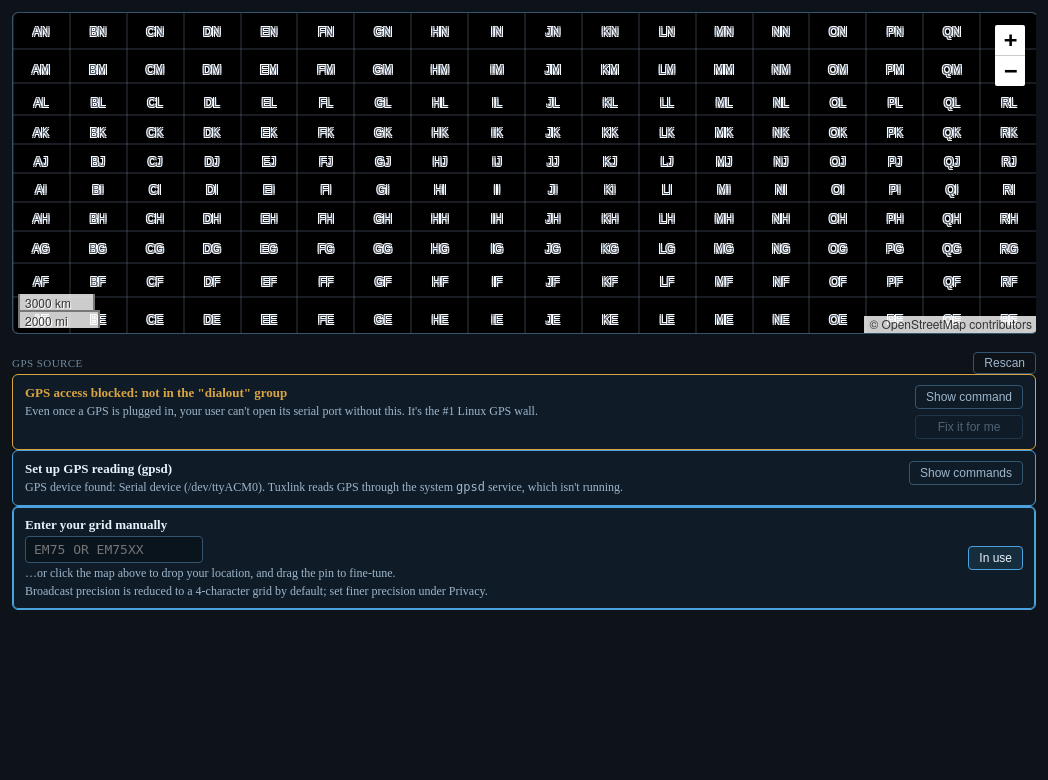
Scenario: GpsSourcePicker › shows a dialout triage card with a copy-pasteable fix command (the core Linux GPS wall)
Expected: the element with test id "gps-triage-dialout" is shown, 12,374 -> 1036,450
Click the button with test id "gps-show-command-dialout". click: (969, 397)
box: 915,385 -> 1023,409
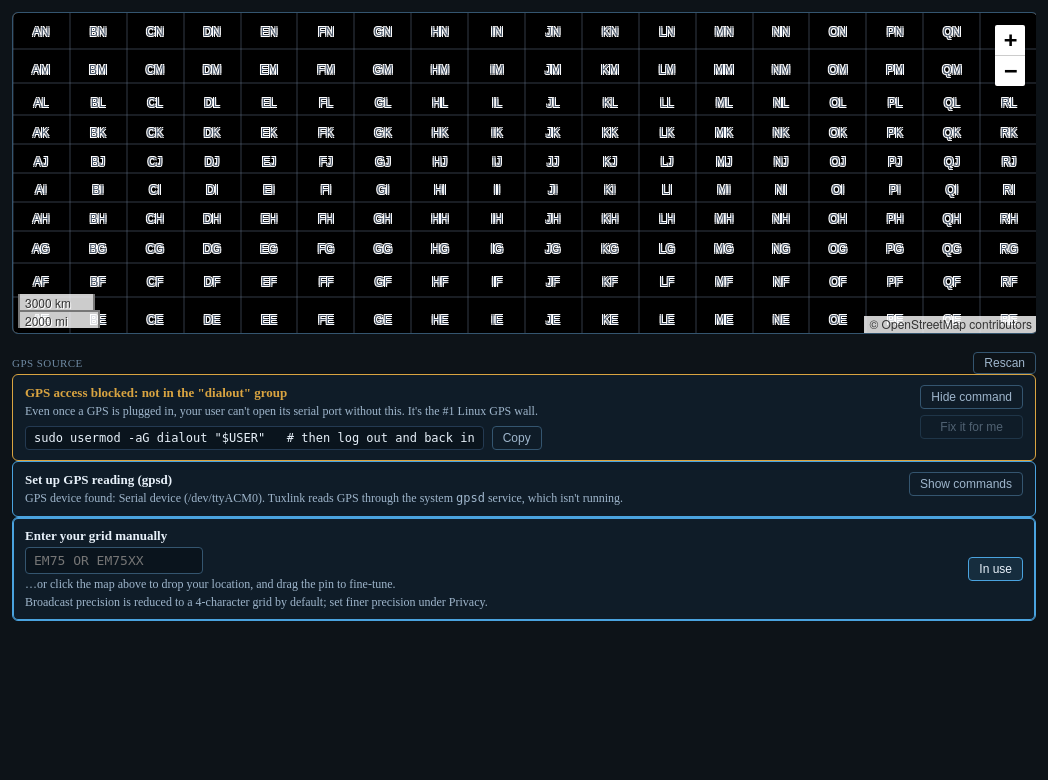
Expected: the text with test id "gps-command-dialout" shows "usermod -aG dialout", 34,431 -> 475,445
Expected: the button with test id "gps-copy-dialout" is shown, 492,426 -> 542,450
